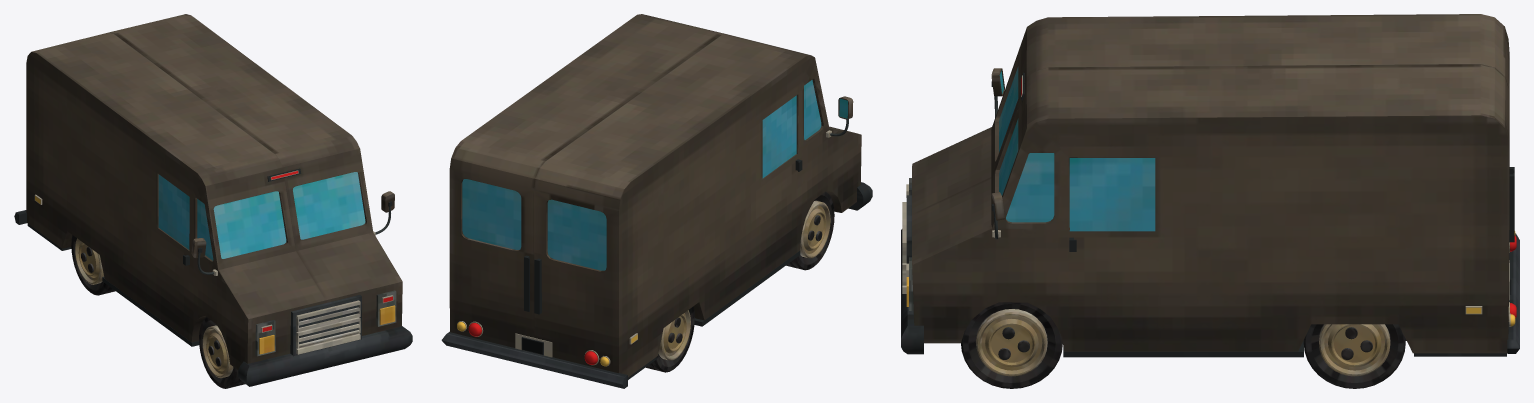
Rendered from van.fbx.
3 renders of one model, left to right at view 1: azimuth 30°, elevation 25°; view 2: azimuth 150°, elevation 25°; view 3: azimuth 270°, elevation 25°, orthographic. The views are drawn at different scales.
Visible parts, largest first — view 1: VAN, Glass.001; view 2: VAN, Glass.001; view 3: VAN, Glass.
Part boxes in pixels (x1=…): VAN: x1=14, y1=14, x2=412, y2=388; Glass.001: x1=158, y1=174, x2=189, y2=249; VAN: x1=441, y1=14, x2=872, y2=388; Glass.001: x1=762, y1=95, x2=796, y2=178; VAN: x1=901, y1=14, x2=1519, y2=388; Glass: x1=1069, y1=158, x2=1155, y2=231.
Bounding box in the file's own units: 140 × 138 × 278.
10 materials, 10 textured.
